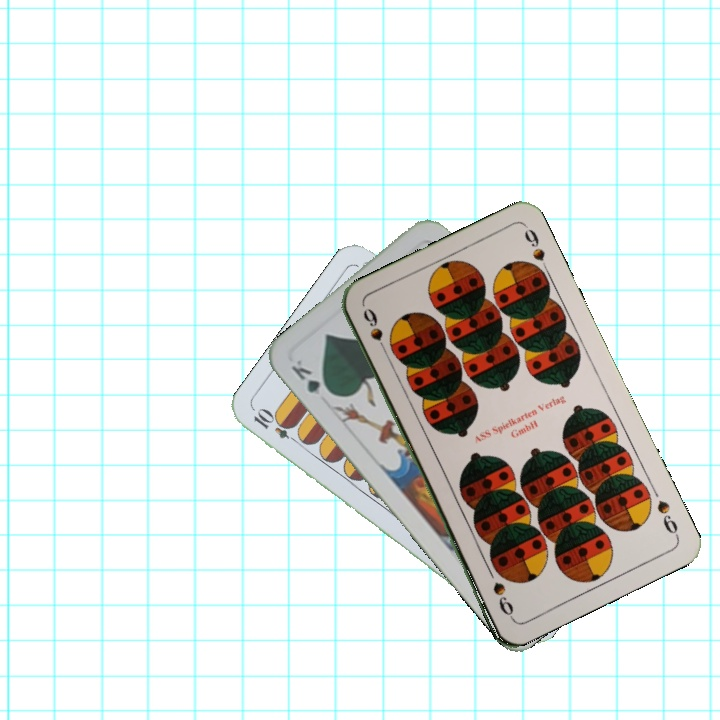E10: (249, 405, 304, 447)
GK: (286, 355, 336, 399)
S9: (359, 303, 391, 359), (653, 496, 682, 541)
